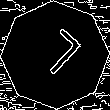L_SW: (27, 26, 83, 84)
